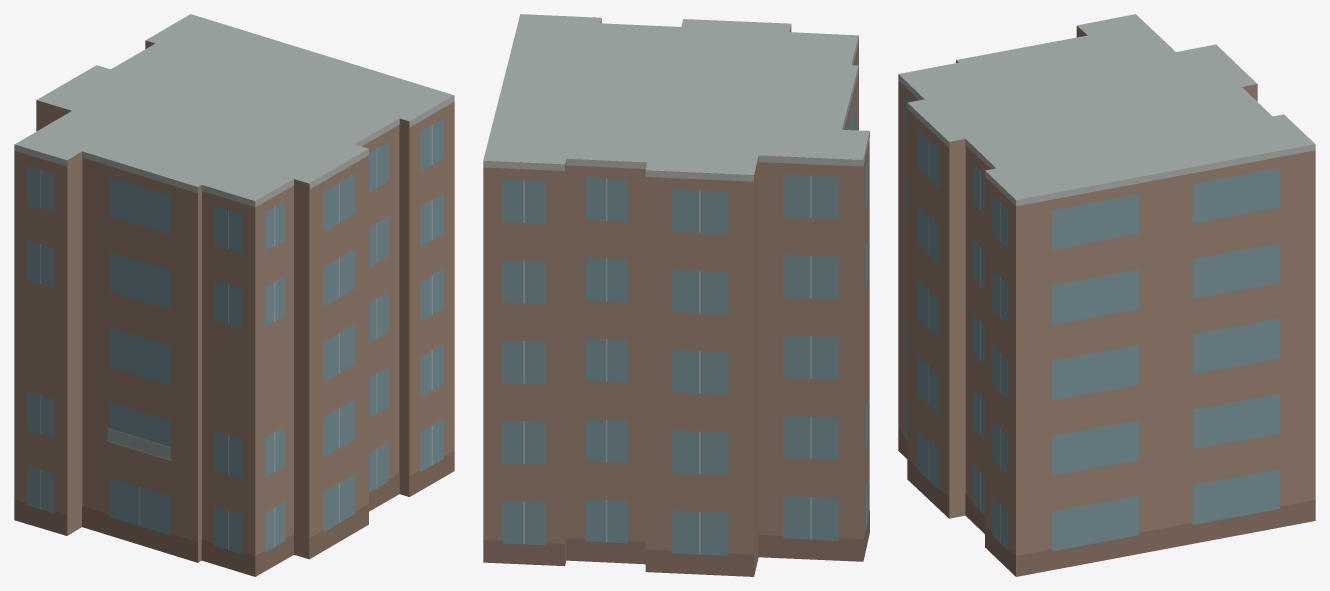
File: survey-upis-32735373.glb
3 views of the same model, side by side, from view 1: azimuth 30°, elevation 25°; view 2: azimuth 150°, elevation 25°; view 3: azimuth 270°, elevation 25° (orthographic). The views are drawn at different scales.
Parts seen in each view (by area): view 1: survey-upis-32735373.tmp; view 2: survey-upis-32735373.tmp; view 3: survey-upis-32735373.tmp.
Boxes of the visible parts, x1,y1,x2,y2 form: survey-upis-32735373.tmp: (14, 14, 454, 576); survey-upis-32735373.tmp: (483, 14, 869, 576); survey-upis-32735373.tmp: (898, 14, 1315, 576).
Size of the model in its own units: 15.64 by 14.75 by 14.81.
